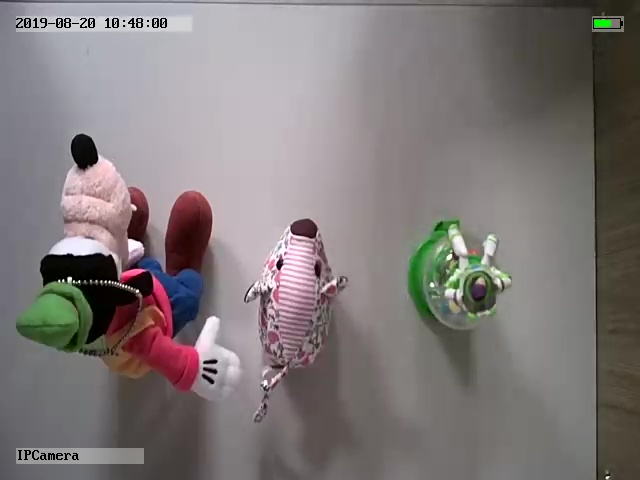buzz: (405, 215, 514, 338)
goofy: (14, 132, 244, 403)
pig: (245, 213, 352, 426)
